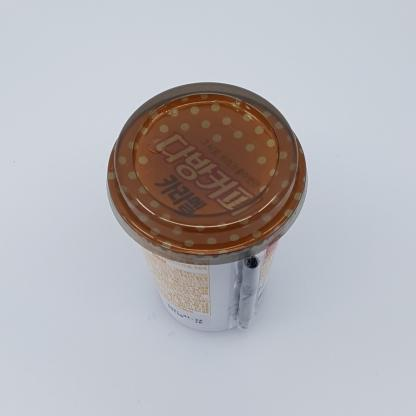---------: (106, 81, 308, 332)
